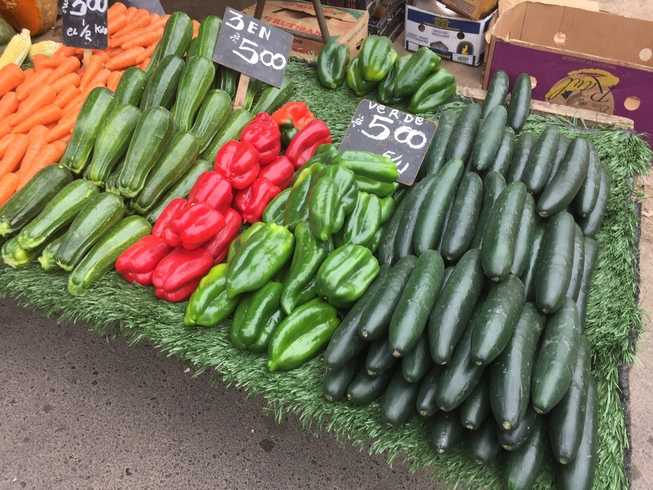precio: (337, 96, 447, 199), (211, 3, 293, 97), (59, 1, 115, 50)
